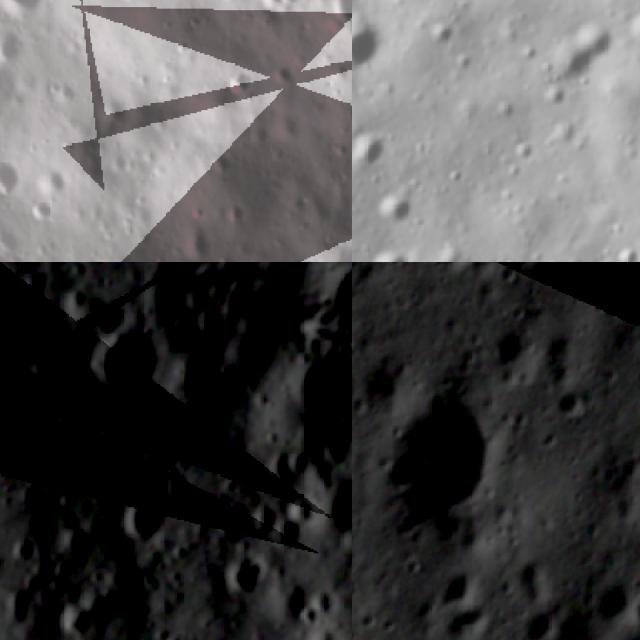crater: (366, 378, 514, 536), (72, 304, 180, 414), (262, 333, 352, 459), (156, 333, 256, 431), (547, 11, 625, 88), (108, 480, 184, 554), (212, 536, 280, 610), (304, 465, 352, 548), (431, 562, 477, 617), (352, 7, 389, 73), (368, 189, 420, 235), (488, 324, 532, 375), (352, 130, 397, 179), (4, 525, 44, 568), (523, 594, 560, 640), (3, 0, 63, 27), (550, 382, 589, 422), (220, 62, 260, 98), (34, 164, 72, 201), (41, 355, 80, 390), (0, 156, 28, 202), (0, 276, 25, 324), (0, 23, 29, 64), (415, 262, 478, 280), (27, 192, 58, 226), (621, 2, 640, 57), (209, 145, 240, 178), (365, 243, 411, 262), (428, 23, 458, 47), (627, 580, 640, 628), (260, 0, 295, 17), (613, 242, 640, 262)
